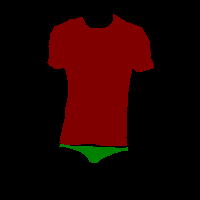abbigliamento: (47, 13, 154, 146)
mutande: (59, 144, 128, 163)
